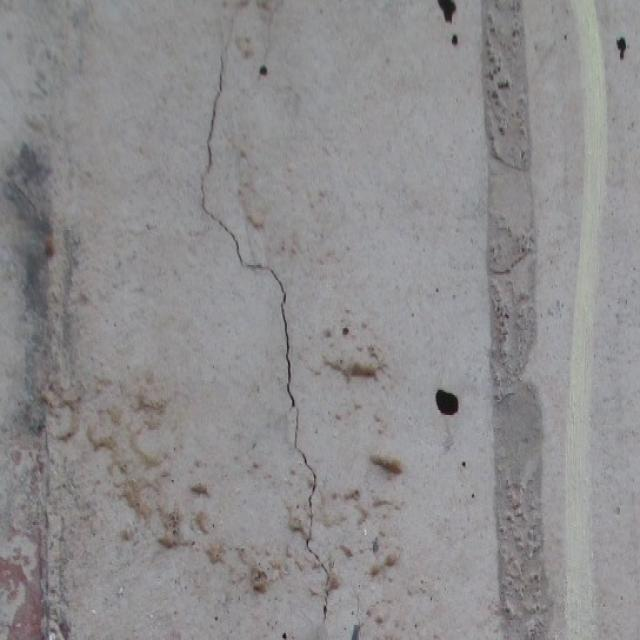crack: (198, 16, 339, 624)
